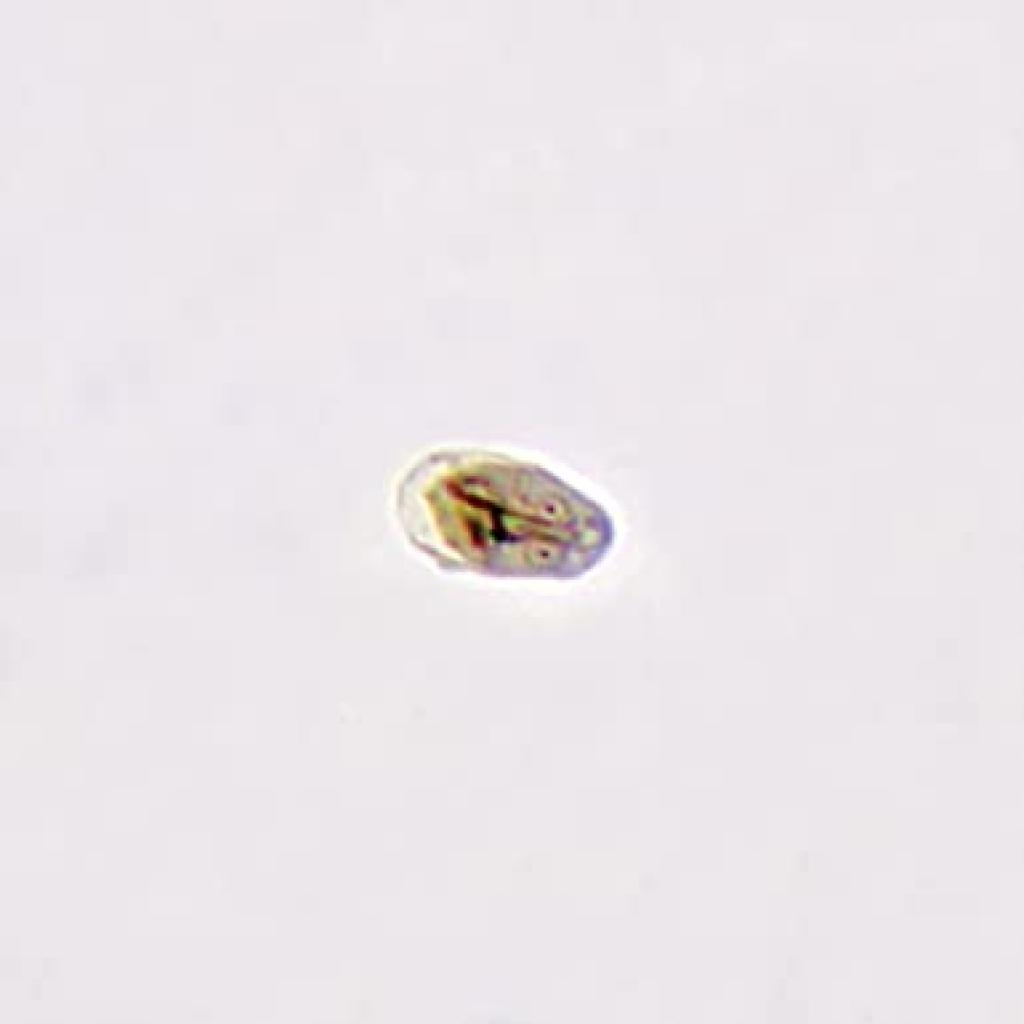Giardia: (388, 436, 625, 585)
